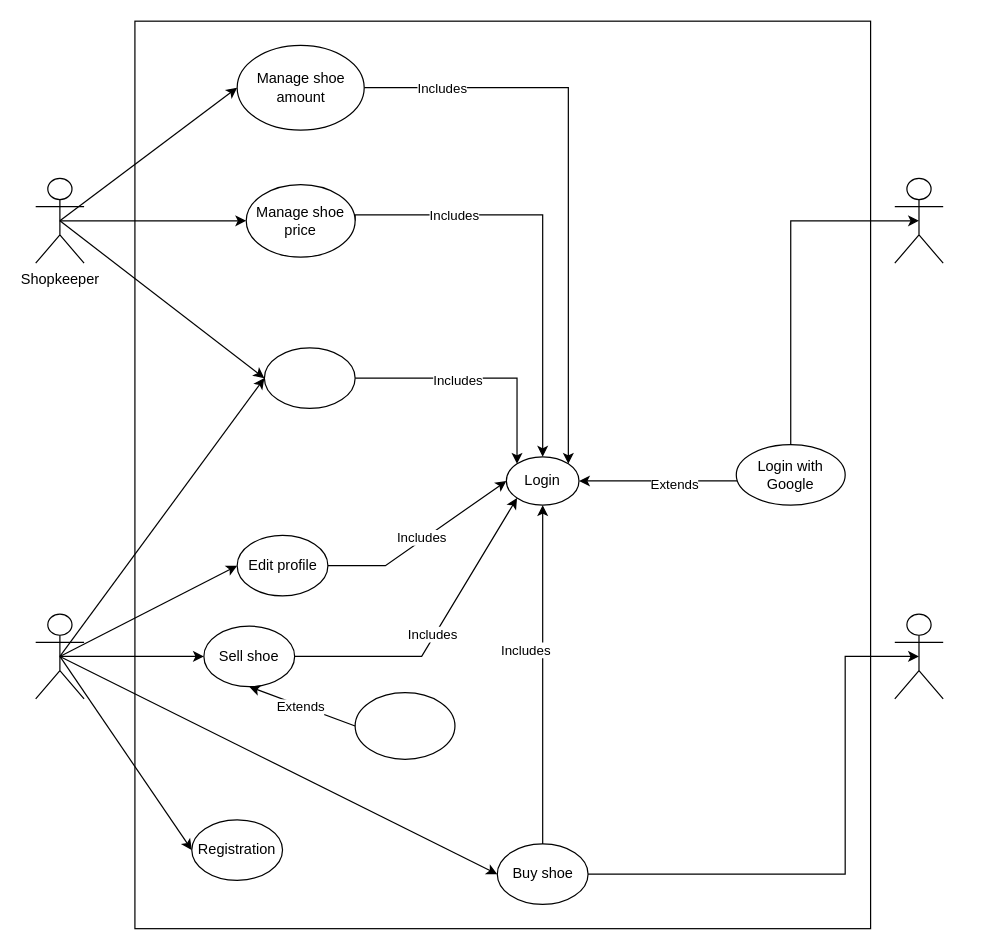
The diagram is 989 pixels wide and 950 high, and some of its shapes have lost their labels. Here are the shapes that lost their labels. From the top down, the box of each, then its label:
(894, 177, 943, 263): Google API
(263, 347, 355, 408): Manage sale
(34, 613, 84, 699): User
(894, 613, 943, 699): Credit payment service
(354, 692, 455, 759): Calculate recommended price
